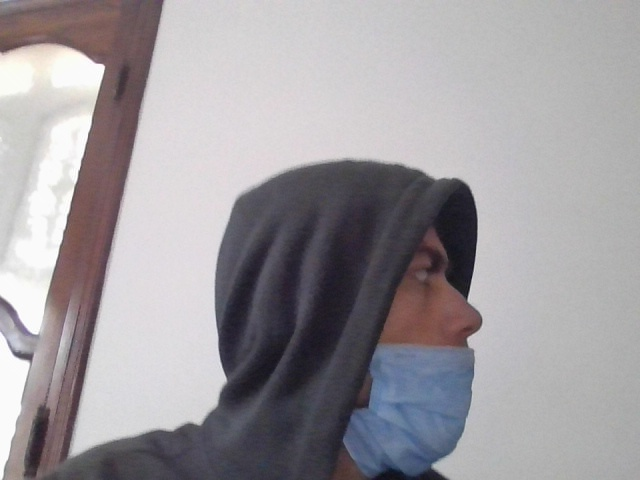mask_weared_incorrect: (336, 189, 505, 480)
